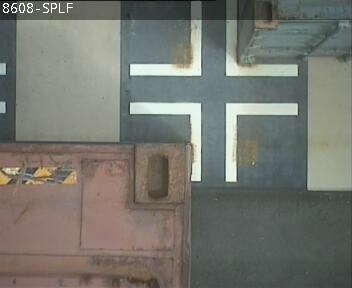groundmarker_1: (129, 102, 297, 181), (130, 1, 297, 75)
